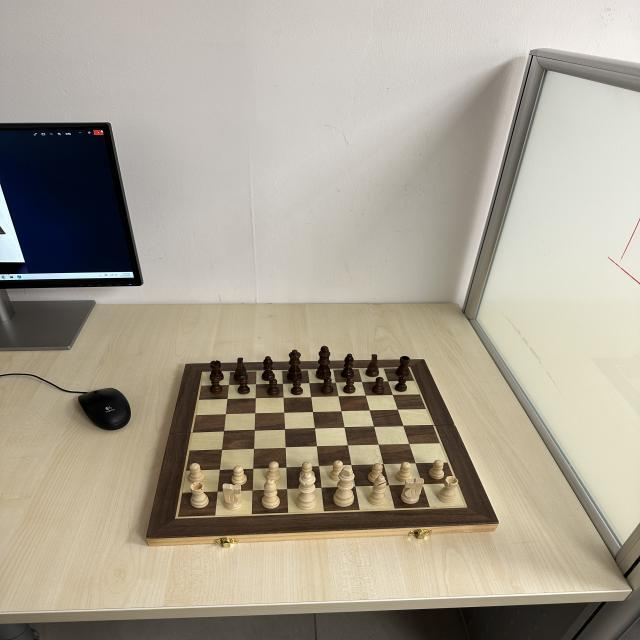chess-table-corners: (460, 502, 472, 510), (171, 514, 184, 520), (198, 370, 206, 374), (408, 366, 412, 369)
